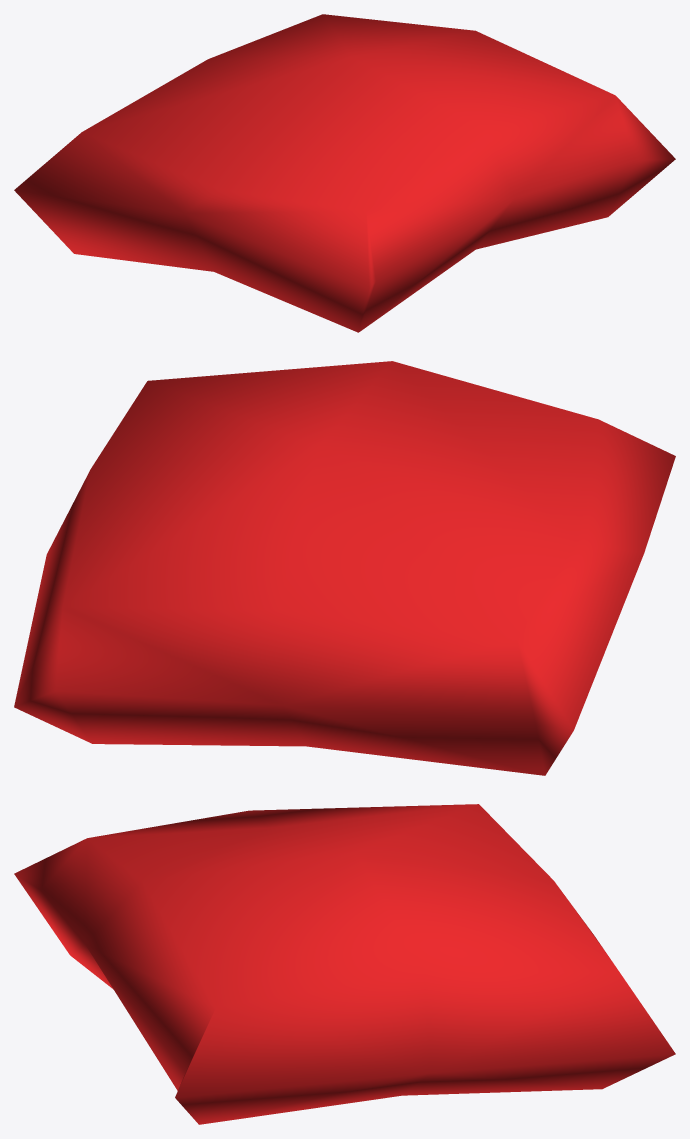
The model's file is bag.fbx.
The picture shows the model from 3 angles, top to bottom: view 1: azimuth 30°, elevation 25°; view 2: azimuth 150°, elevation 25°; view 3: azimuth 270°, elevation 25°; orthographic projection. The views are drawn at different scales.
Visible parts, largest first — view 1: sack.018; view 2: sack.018; view 3: sack.018.
Boxes of the visible parts, x1,y1,x2,y2 form: sack.018: (14, 14, 675, 332); sack.018: (14, 361, 675, 775); sack.018: (14, 804, 675, 1124).
Size of the model in its own units: 43.42 by 14.25 by 43.24.
